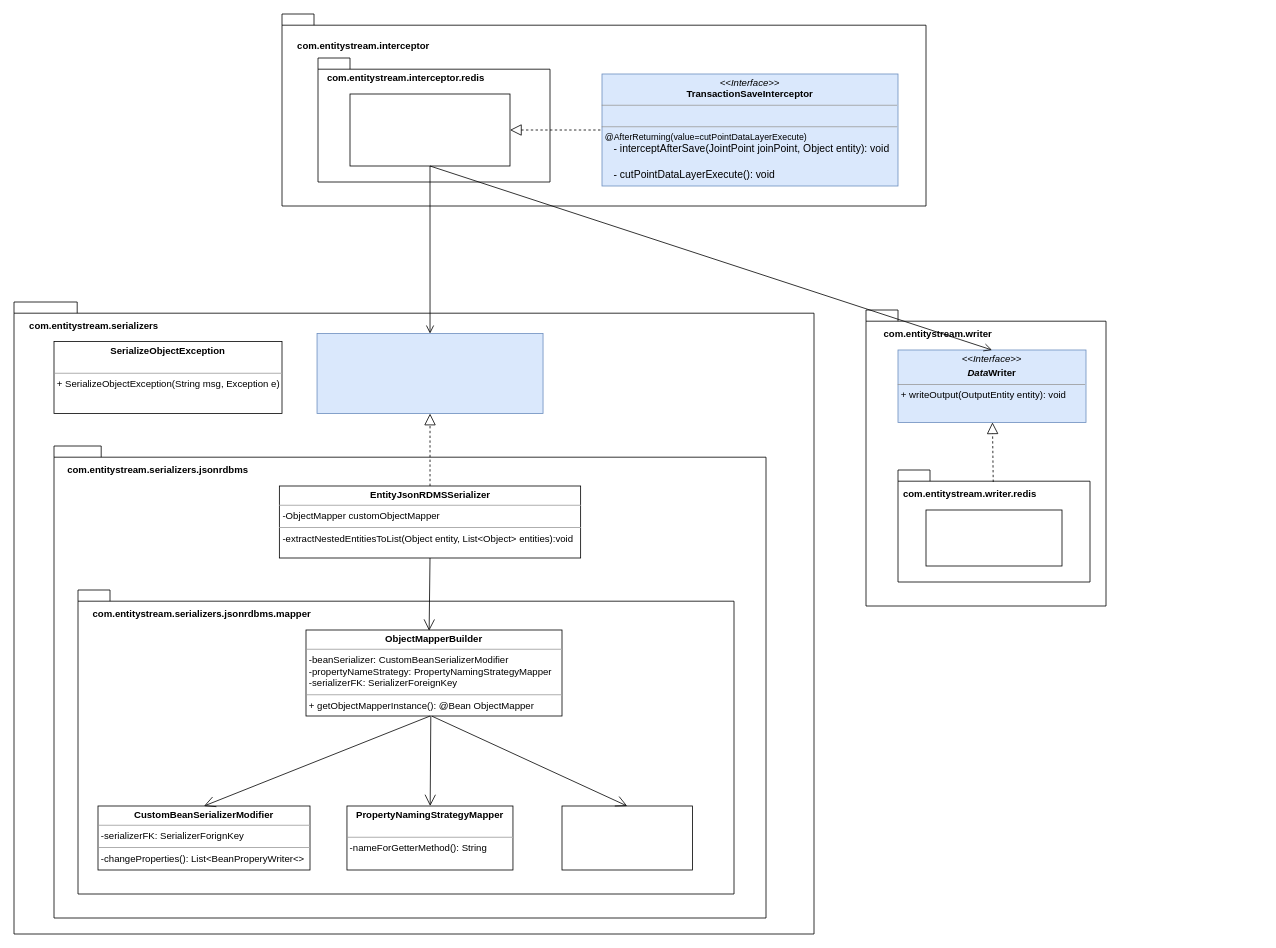
Image size: 1276x948. Some labels were removed from this diagram. Here are the shapes that lost their labels. From the top down, the centre of each, then its label:
(x=429, y=129): AspectRedisSave - serializer: SerializerEntity - dataWriter: DataWriter
(x=429, y=373): <<Interface>> EntitySerializer +serialize(List<Object> entities): OutPutEntity
(x=993, y=537): RedisStreamWriter
(x=626, y=837): SerializerForeignKey - serializer(): void
